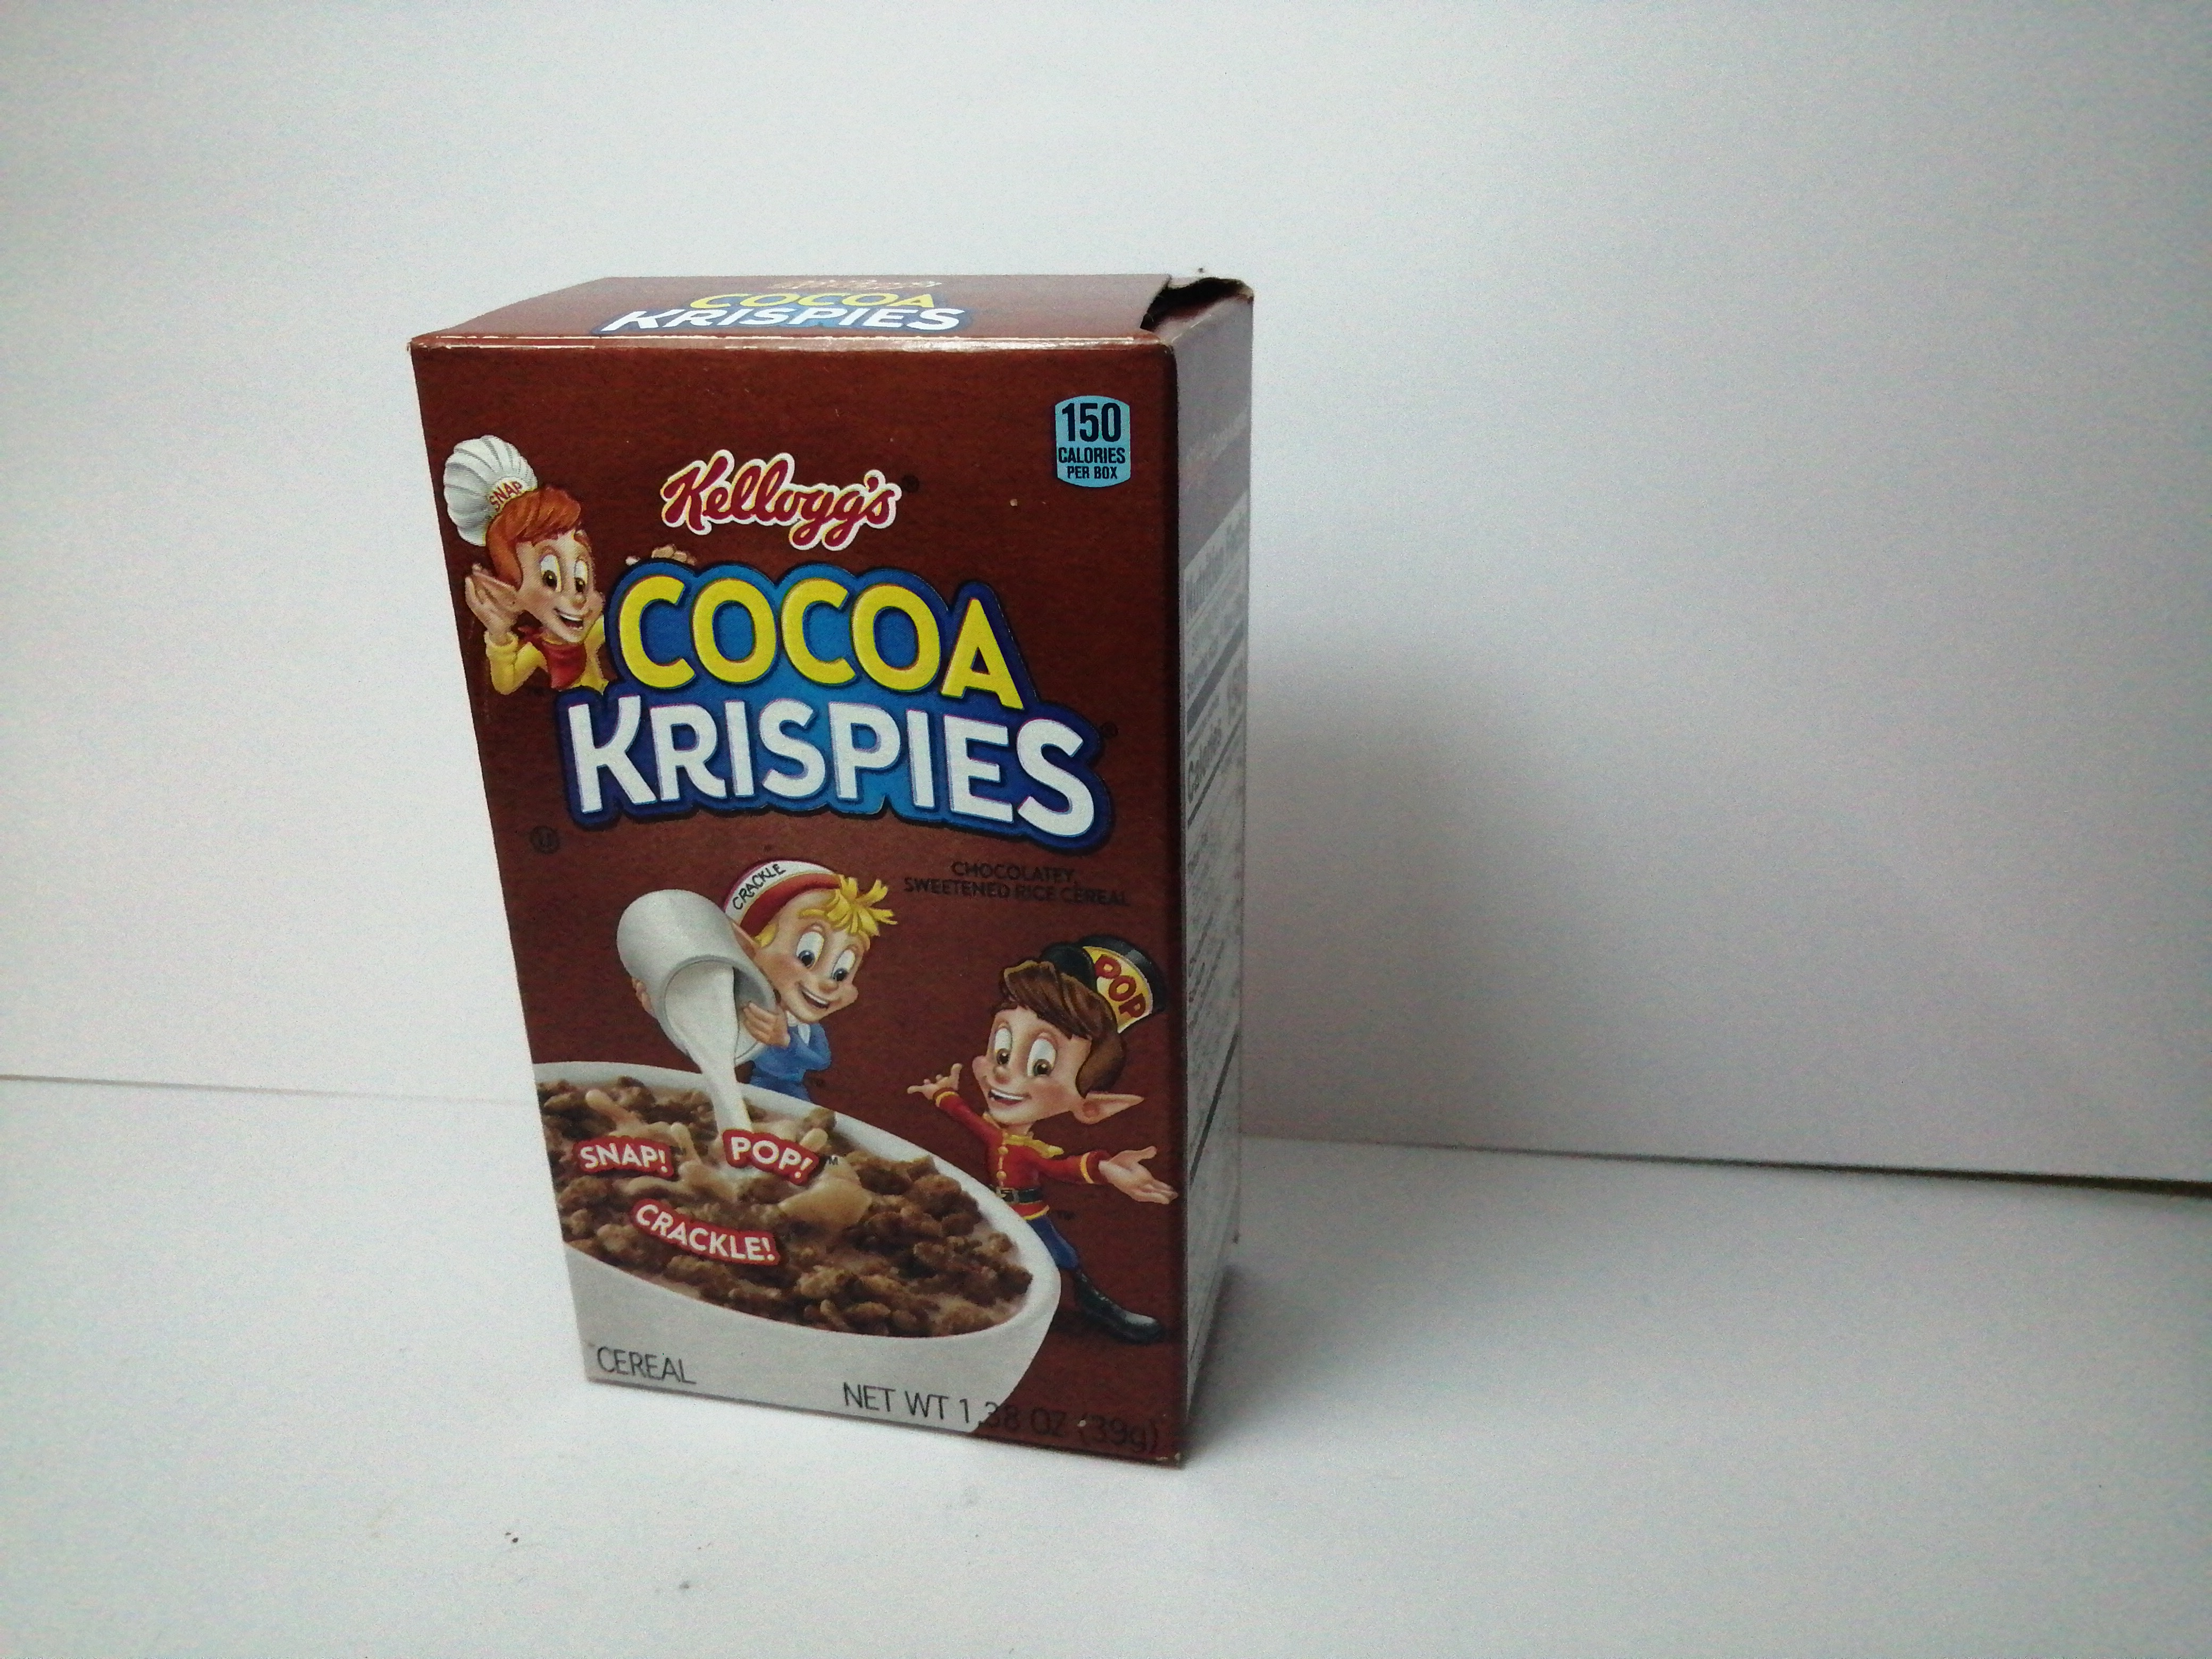cereal chocolate: (409, 254, 1289, 1476)
